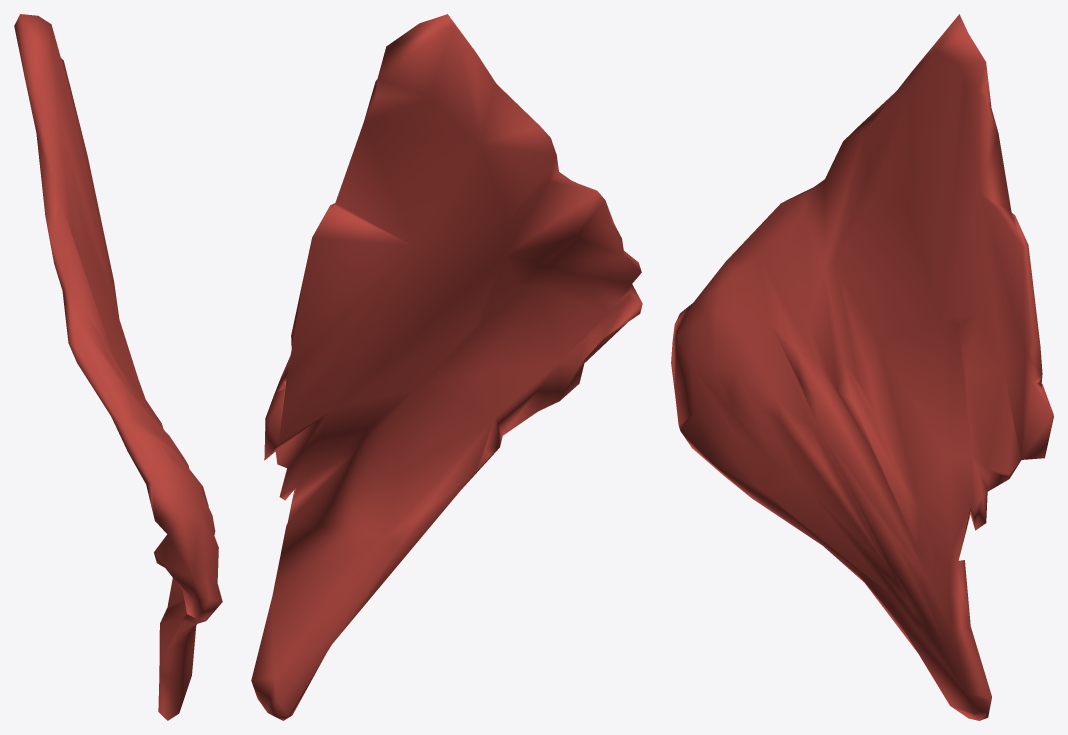
The model's file is musculos-nasalis-muscle-l.glb.
The picture shows the model from 3 angles, left to right: view 1: azimuth 30°, elevation 25°; view 2: azimuth 150°, elevation 25°; view 3: azimuth 270°, elevation 25°; orthographic projection. The views are drawn at different scales.
Parts seen in each view (by area): view 1: Nasalis muscle.l; view 2: Nasalis muscle.l; view 3: Nasalis muscle.l.
Part boxes in pixels (x1,y1,x2,y2): Nasalis muscle.l: (14, 14, 222, 720); Nasalis muscle.l: (251, 14, 642, 720); Nasalis muscle.l: (671, 14, 1053, 720).
Bounding box in the file's own units: 0.0132 × 0.0403 × 0.0218.
